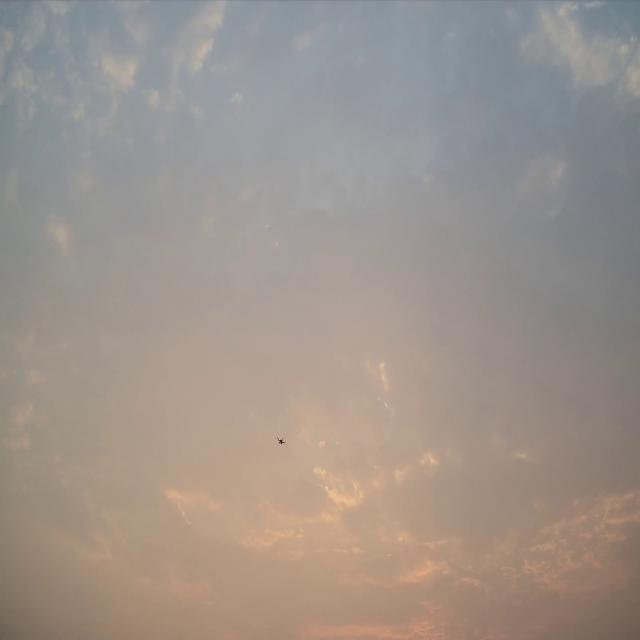UAV: (277, 437, 285, 445)
